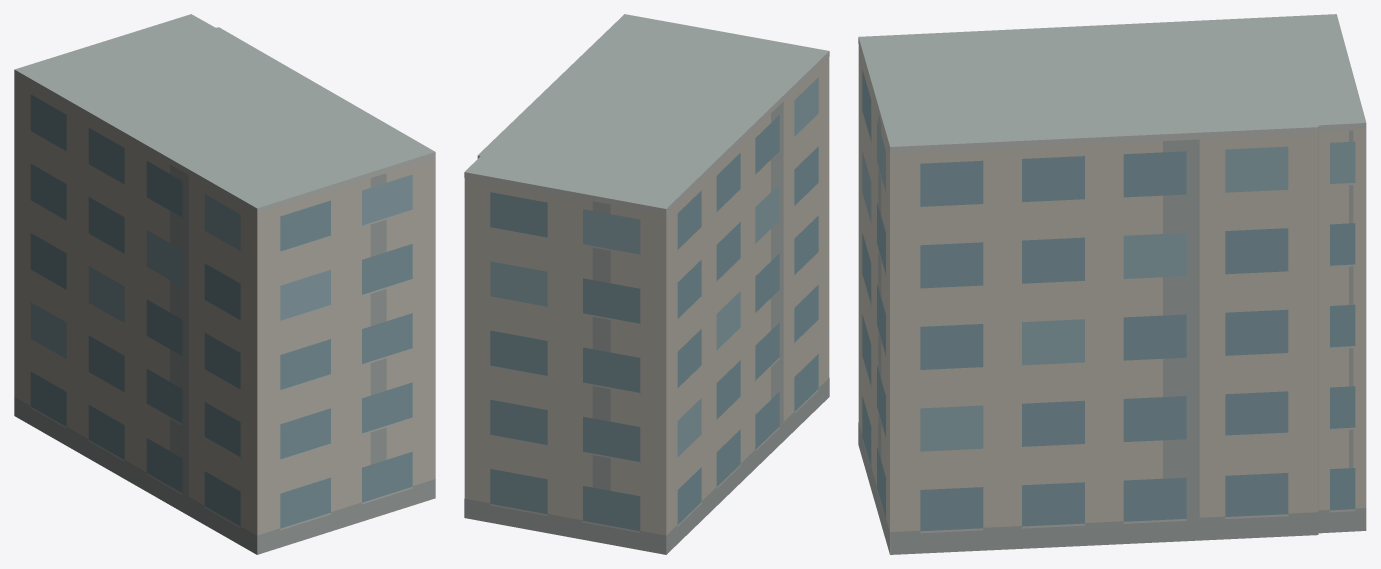
Rendered from survey-upis-32951767.glb.
3 renders of one model, left to right at view 1: azimuth 30°, elevation 25°; view 2: azimuth 150°, elevation 25°; view 3: azimuth 270°, elevation 25°, orthographic. The views are drawn at different scales.
Visible parts, largest first — view 1: survey-upis-32951767.tmp; view 2: survey-upis-32951767.tmp; view 3: survey-upis-32951767.tmp.
Part boxes in pixels (x1,y1,x2,y2): survey-upis-32951767.tmp: (14, 14, 435, 554); survey-upis-32951767.tmp: (464, 14, 829, 554); survey-upis-32951767.tmp: (858, 14, 1366, 554).
Bounding box in the file's own units: 10.22 × 14.6 × 16.49.
